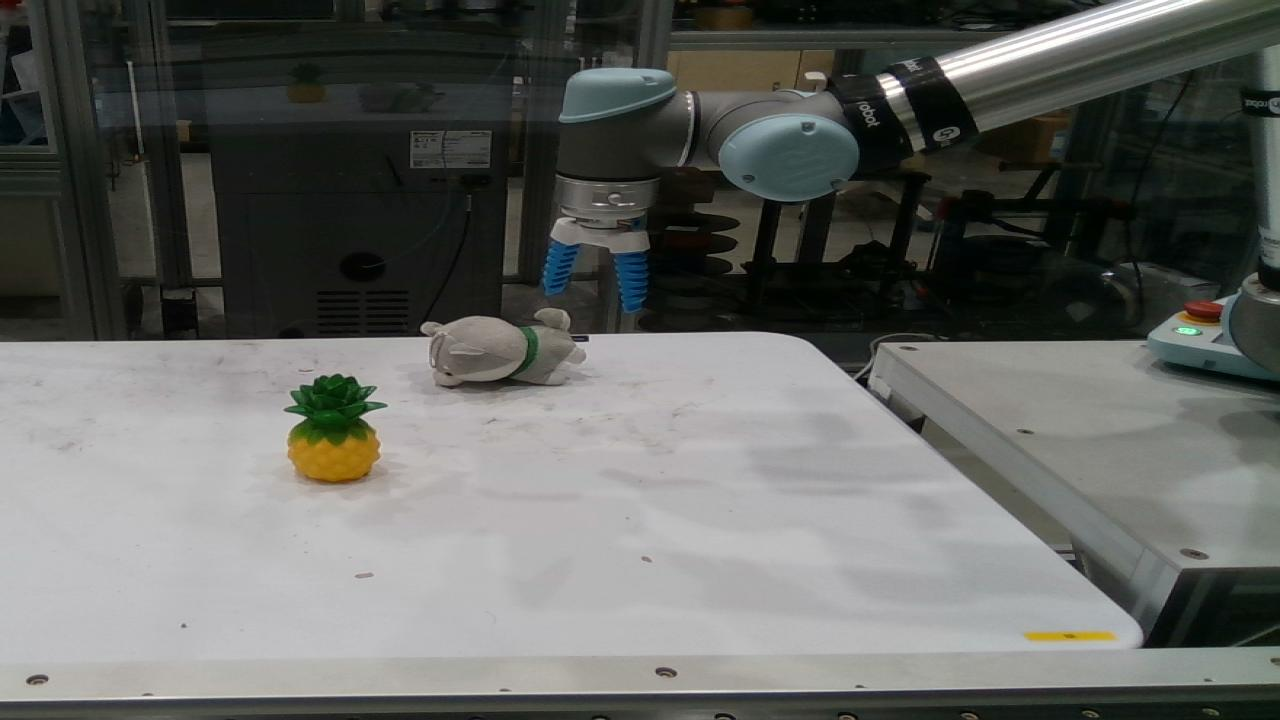UR5: (550, 0, 1279, 378)
gripper_left: (544, 240, 580, 295)
gripper_right: (613, 251, 648, 312)
target: (421, 308, 587, 388), (283, 373, 390, 482)
